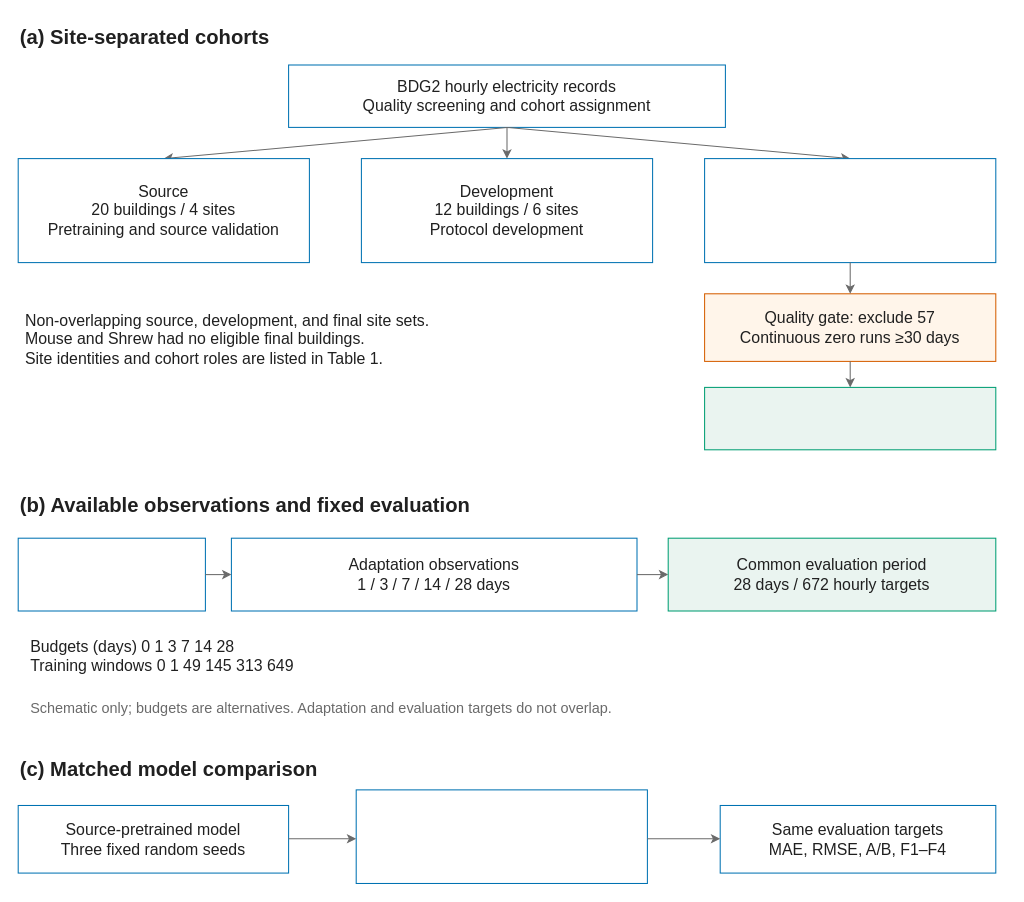
The diagram is 1024 pixels wide and 902 high, and some of its shapes have lost their labels. Here are the shapes that lost their labels. From the top down, the centre of each, then its label:
At point 850,210: "Final-evaluation proposal 510 buildings / 9 sites Prespecified candidate pool".
At point 850,418: "Final evaluation 453 buildings / 7 sites".
At point 111,574: "Initial context 24 hours".
At point 501,836: "0 days: source-only 1–28 days: head-only adaptation LSTM representation frozen".
